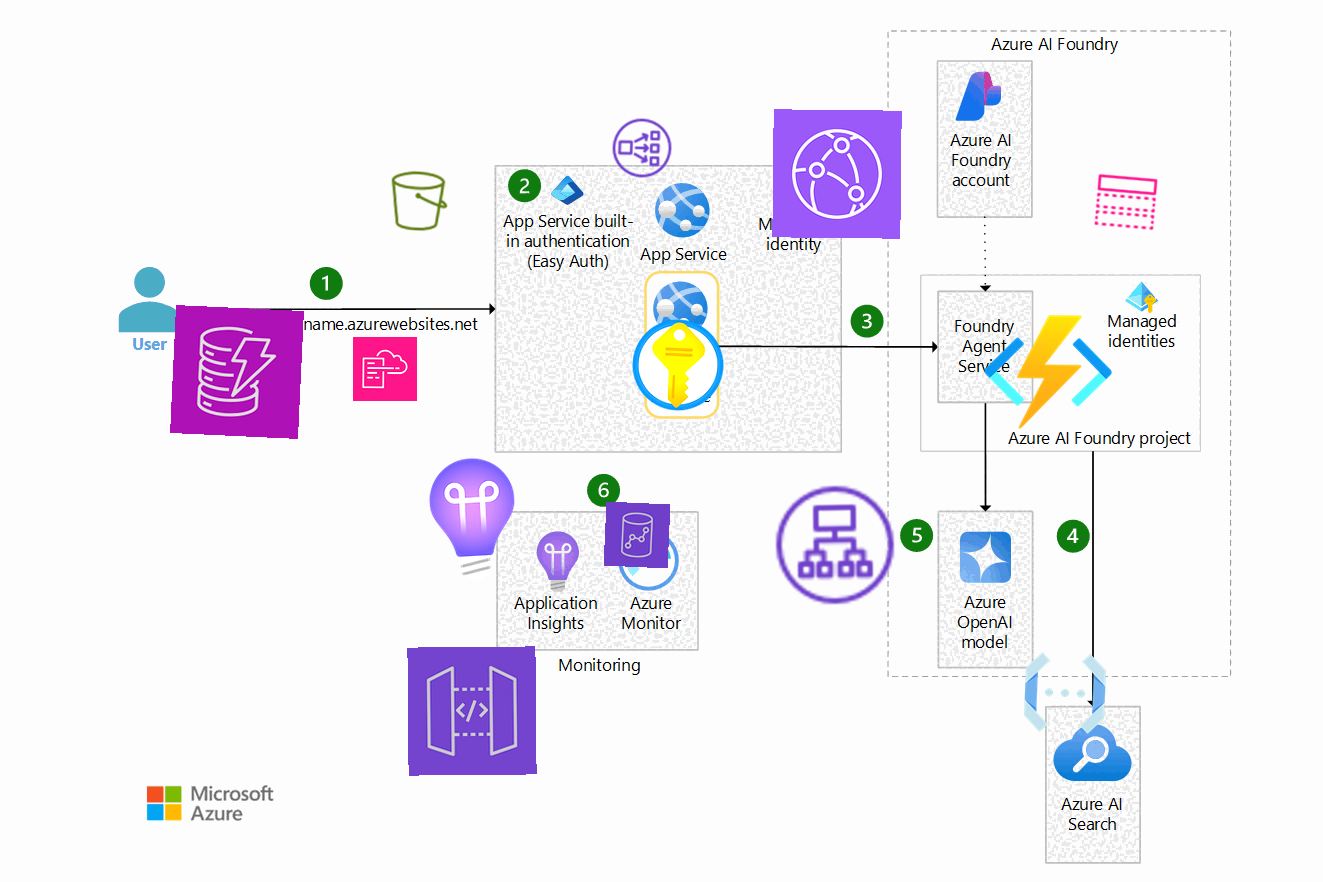aws_amazon_api_gateway: (407, 646, 537, 776)
aws_amazon_cloudfront: (772, 109, 902, 239)
aws_amazon_dynamodb: (170, 305, 304, 439)
aws_amazon_redshift: (603, 501, 671, 569)
aws_cloudformation: (352, 336, 418, 402)
aws_elastic_load_balancing_application_load_balancer: (770, 480, 900, 610)
aws_elastic_load_balancing_network_load_balancer: (609, 115, 675, 181)
aws_simple_notification_service_topic: (1091, 167, 1161, 237)
aws_simple_storage_service_s3_standard: (385, 167, 453, 235)
azure_application_insights: (405, 451, 541, 587)
azure_function_apps: (983, 307, 1113, 437)
azure_key_vaults: (627, 314, 729, 416)
gcp_cloud_functions: (1015, 643, 1115, 743)
